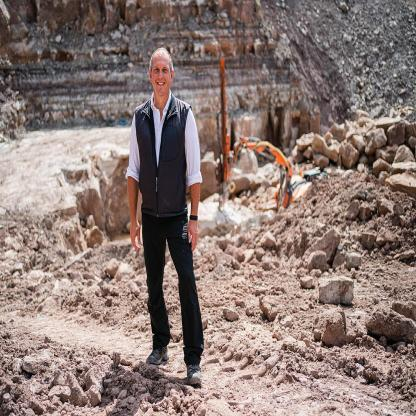person: (121, 42, 215, 388)
